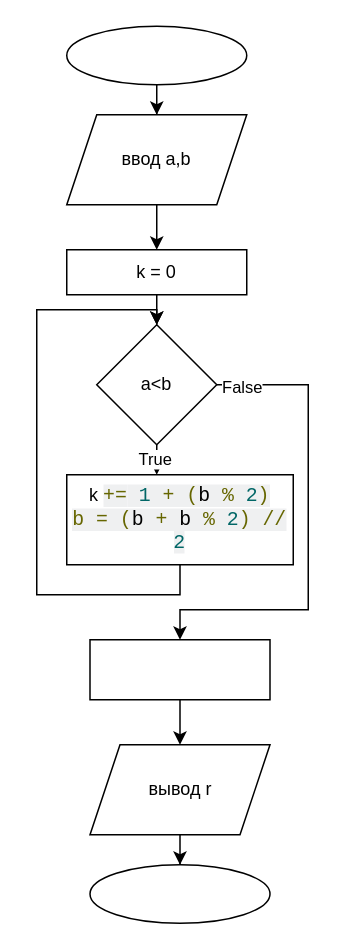
This 347x950 diagram has some shape labels left out. Here are the shapes that lost their labels. From the top down, the centre of each, then its label:
At (x=156, y=55): "Начало".
At (x=179, y=669): "r =( k + a - b )".
At (x=179, y=893): "Конец".
